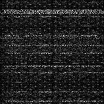lte: (1, 9, 104, 14), (1, 44, 104, 46), (1, 64, 104, 66)
